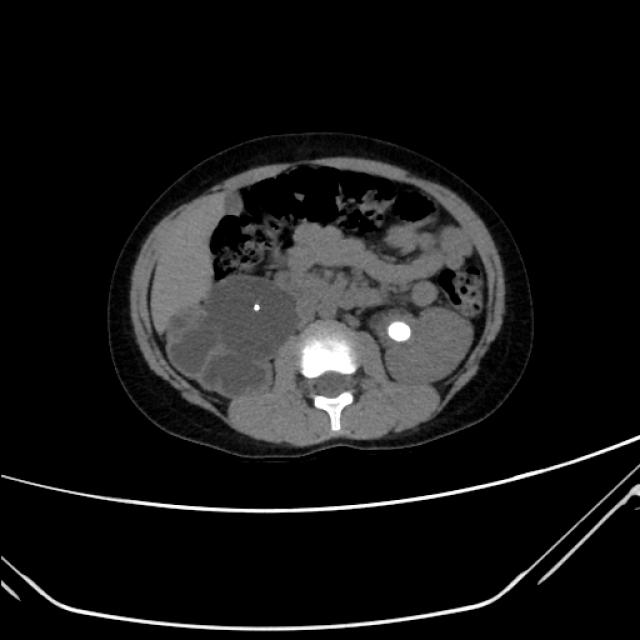kidney: (372, 302, 480, 389), (207, 268, 300, 362)
stone: (388, 320, 413, 345), (252, 301, 262, 313)
